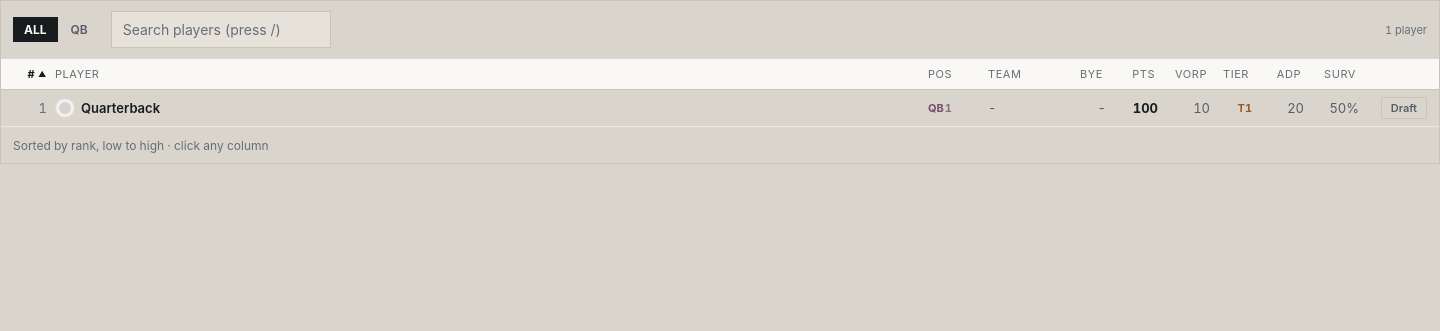
Board when there is nothing to show › clears a search box as well as the position tab
The image size is (1440, 331).
In the field labelled "Search players": [221, 30] box [111,11,331,48], type "nobody"
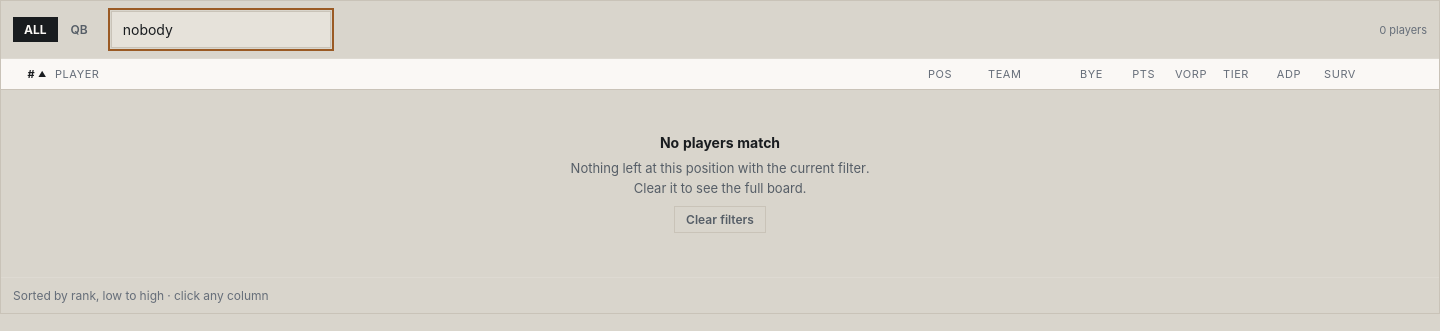
Click the button "Clear filters": [720, 220] box [674,206,766,233]
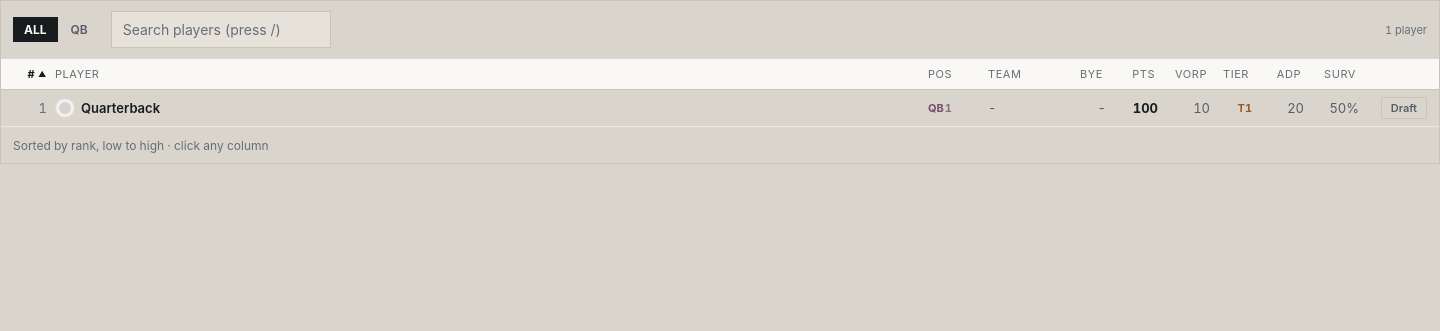
Result: the field labelled "Search players" is empty at [111,11,331,48]
Result: the text "1 player" is shown at [1385,22,1427,36]
